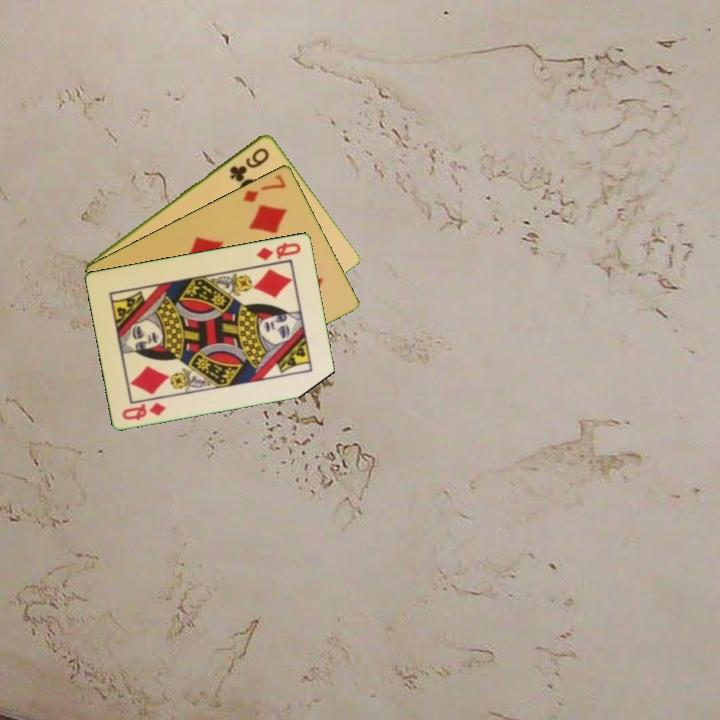7d: (239, 171, 289, 205)
9c: (226, 144, 272, 183)
Qd: (119, 398, 169, 423), (252, 239, 304, 263)
